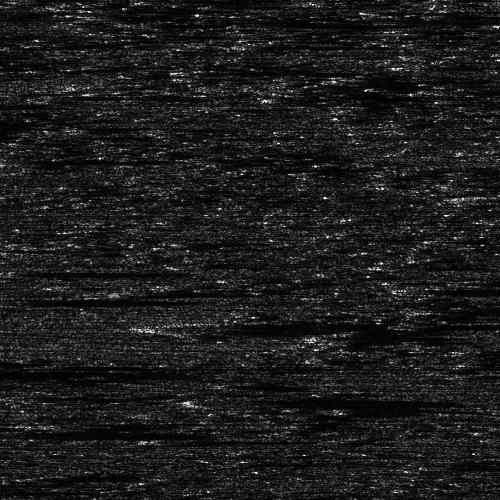object: (103, 323, 238, 334), (297, 328, 390, 343), (4, 418, 109, 429), (0, 256, 32, 285), (377, 288, 450, 293), (0, 155, 34, 164), (464, 195, 500, 202), (166, 66, 207, 71), (182, 396, 223, 401), (0, 429, 22, 438)
shadow: (0, 256, 159, 285), (171, 323, 478, 334), (344, 328, 500, 343), (0, 365, 130, 378), (0, 429, 184, 438), (8, 155, 183, 164), (57, 418, 180, 429), (203, 396, 414, 401), (186, 66, 347, 71), (414, 288, 500, 293), (0, 101, 70, 106), (7, 298, 181, 299)
